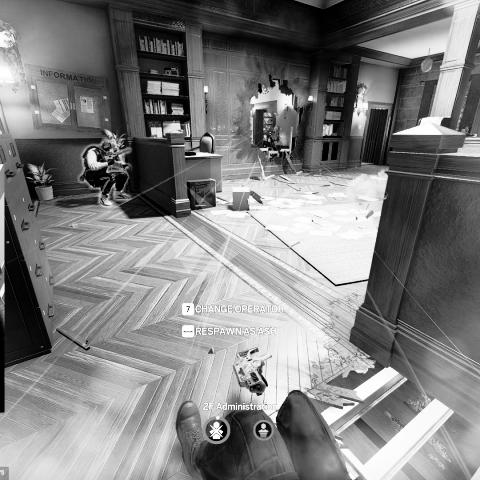Character: (175, 386, 352, 480), (79, 138, 133, 208), (267, 123, 282, 152)
Head: (104, 139, 118, 153), (273, 125, 280, 132)
